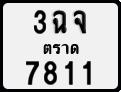letters: (24, 60, 40, 86), (43, 59, 58, 86), (52, 9, 68, 34), (33, 9, 47, 35), (73, 9, 87, 34), (82, 58, 93, 86), (64, 59, 74, 86)
province: (43, 42, 80, 56)
